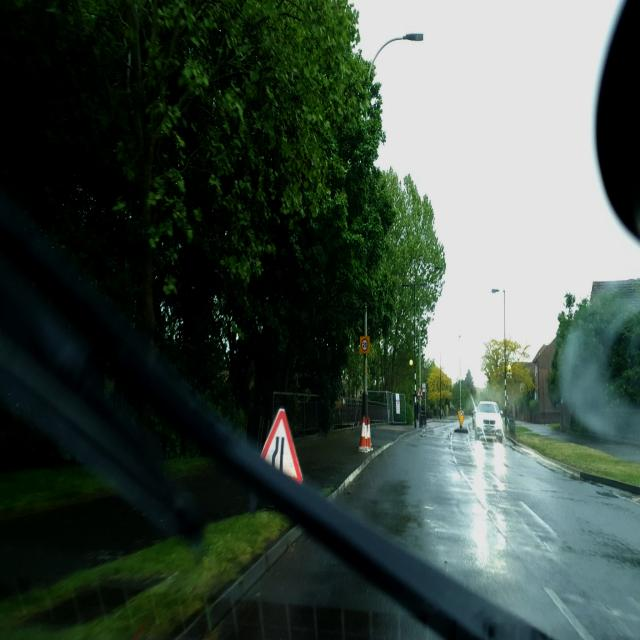car: (474, 401, 504, 442)
